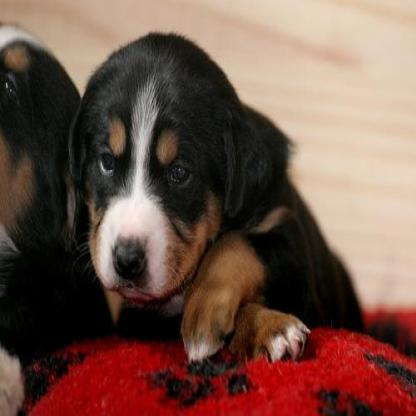Appenzeller: (65, 28, 363, 364), (0, 19, 81, 368)
